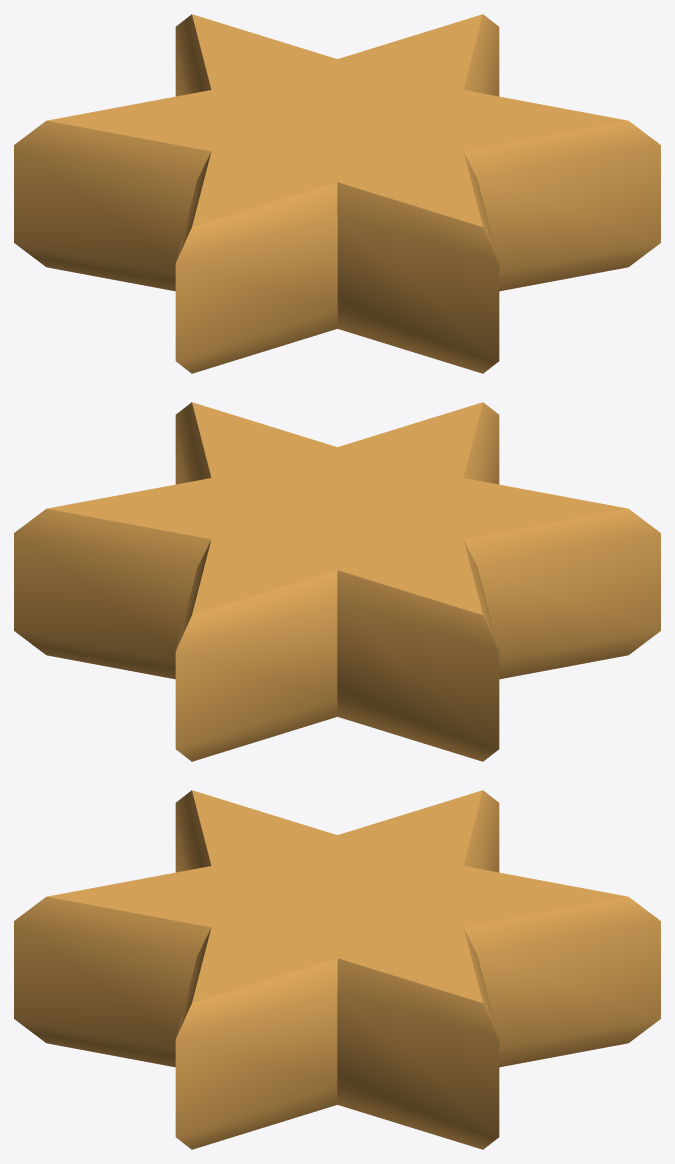
Rendered from Star_6P_02.fbx.
3 renders of one model, top to bottom at view 1: azimuth 30°, elevation 25°; view 2: azimuth 150°, elevation 25°; view 3: azimuth 270°, elevation 25°, orthographic.
Parts seen in each view (by area): view 1: Star_6P_02; view 2: Star_6P_02; view 3: Star_6P_02.
Boxes of the visible parts, left/top/right/bottom form: Star_6P_02: left=14, top=14, right=660, bottom=373; Star_6P_02: left=14, top=402, right=660, bottom=761; Star_6P_02: left=14, top=790, right=660, bottom=1149.
Size of the model in its own units: 346 by 100 by 400.
